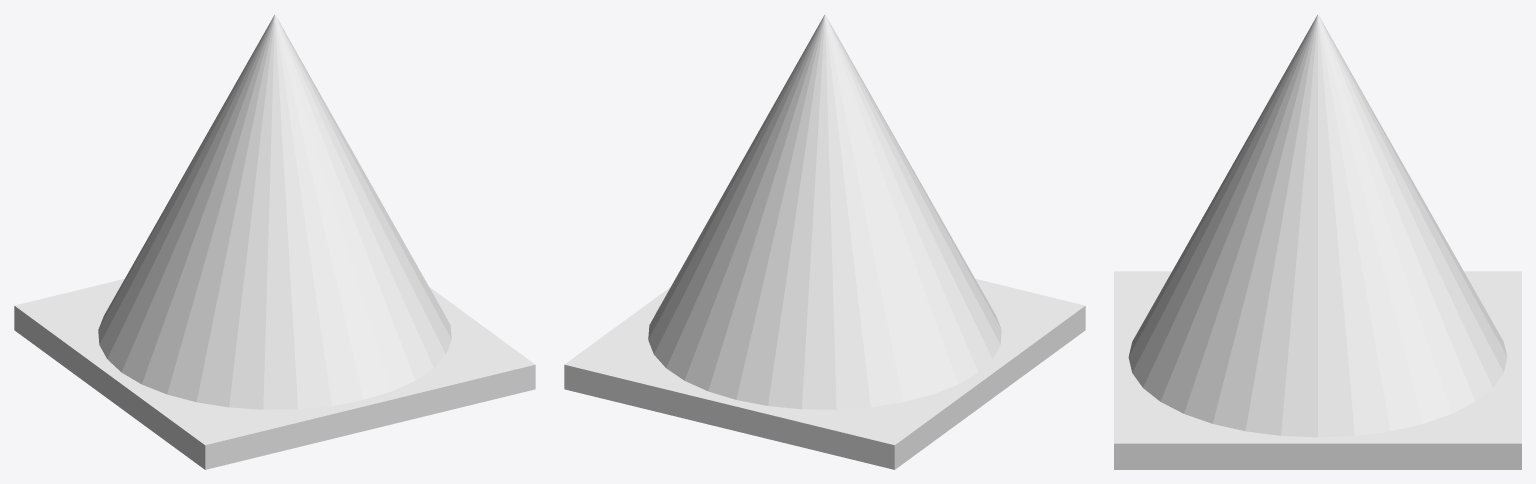
The picture shows the model from 3 angles, left to right: view 1: azimuth 30°, elevation 25°; view 2: azimuth 150°, elevation 25°; view 3: azimuth 270°, elevation 25°; orthographic projection. The views are drawn at different scales.
Visible parts, largest first — view 1: 円錐.002; view 2: 円錐.002; view 3: 円錐.002.
Boxes of the visible parts, left/top/right/bottom form: 円錐.002: left=14, top=14, right=535, bottom=469; 円錐.002: left=564, top=14, right=1085, bottom=469; 円錐.002: left=1114, top=14, right=1521, bottom=469.
Size of the model in its own units: 2 by 2 by 2.
